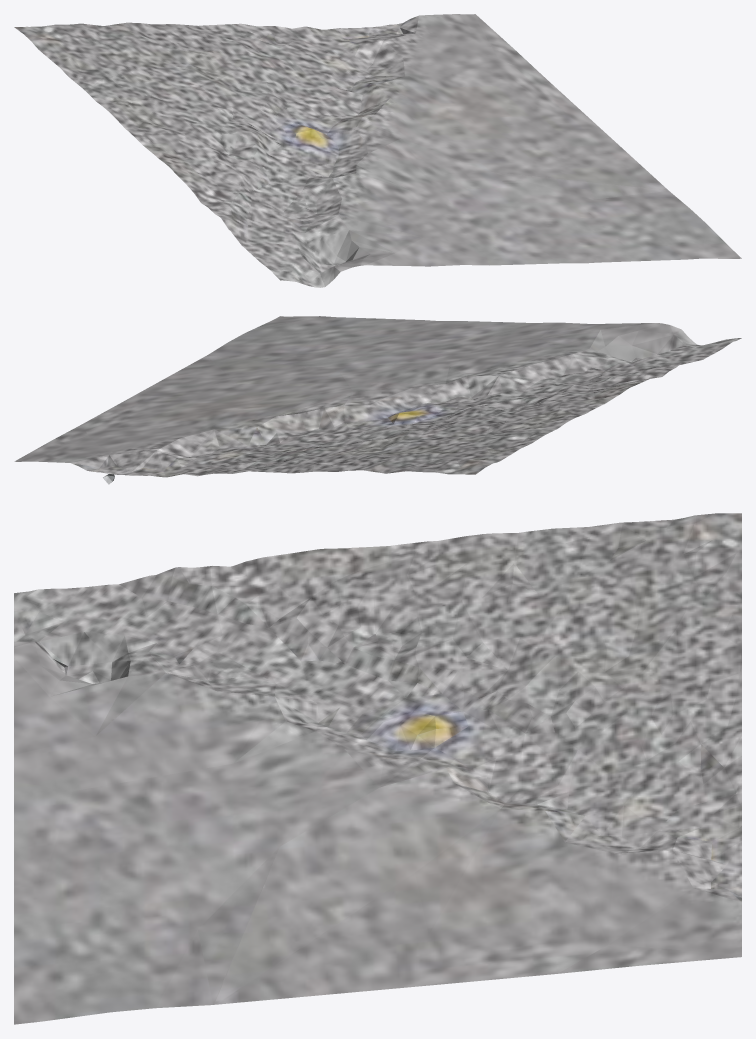
The picture shows the model from 3 angles, top to bottom: view 1: azimuth 30°, elevation 25°; view 2: azimuth 150°, elevation 25°; view 3: azimuth 270°, elevation 25°; orthographic projection. The views are drawn at different scales.
Size of the model in its own units: 0.8373 by 0.2585 by 0.8374.
2 materials, 2 textured.
